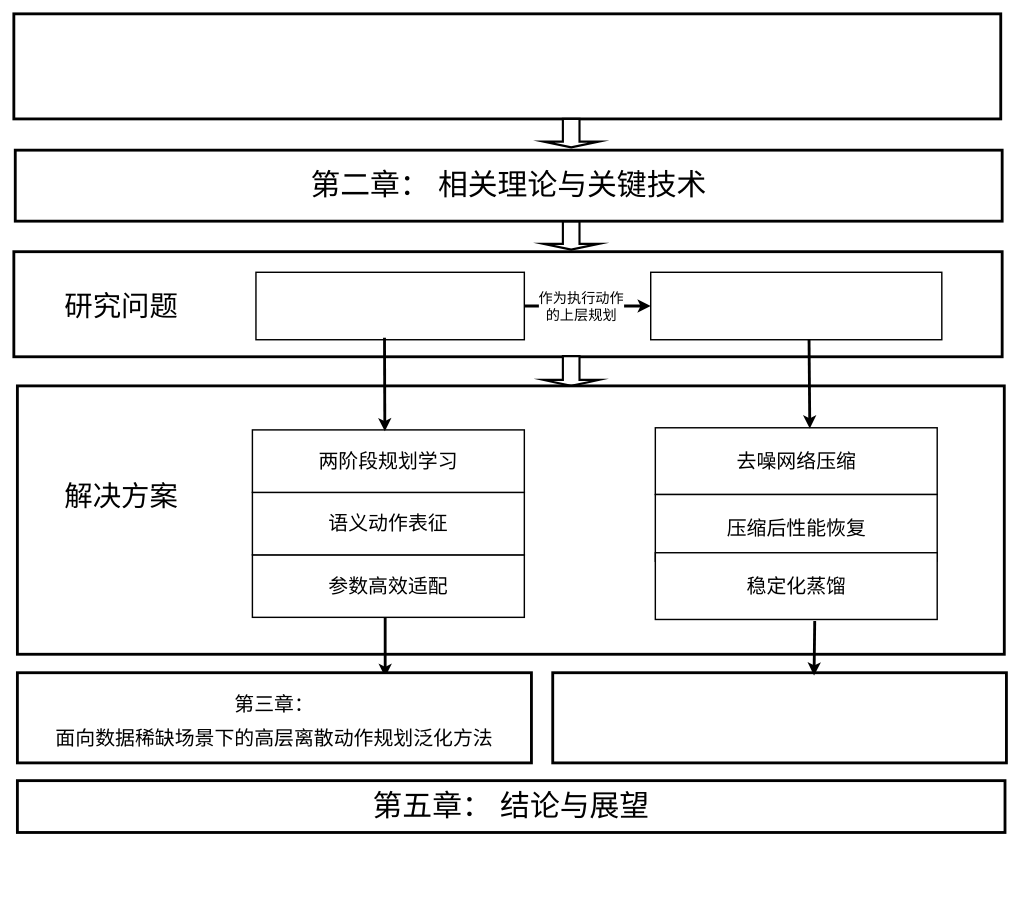
Some shapes in this 1020 by 922 pixel diagram are drawn without their labels. The centre of each missing label's shape, as x and y in pixels:
"动态场景中机器人执行层 端到端扩散策略 推理效率不足" belongs at point (796, 305).
"数据稀缺场景中 机器人规划 泛化不足" belongs at point (390, 305).
"第一章： 绪论" belongs at point (507, 66).
"第四章： 资源受限下端到端扩散策略的压缩与稳定恢复方法" belongs at point (779, 717).
